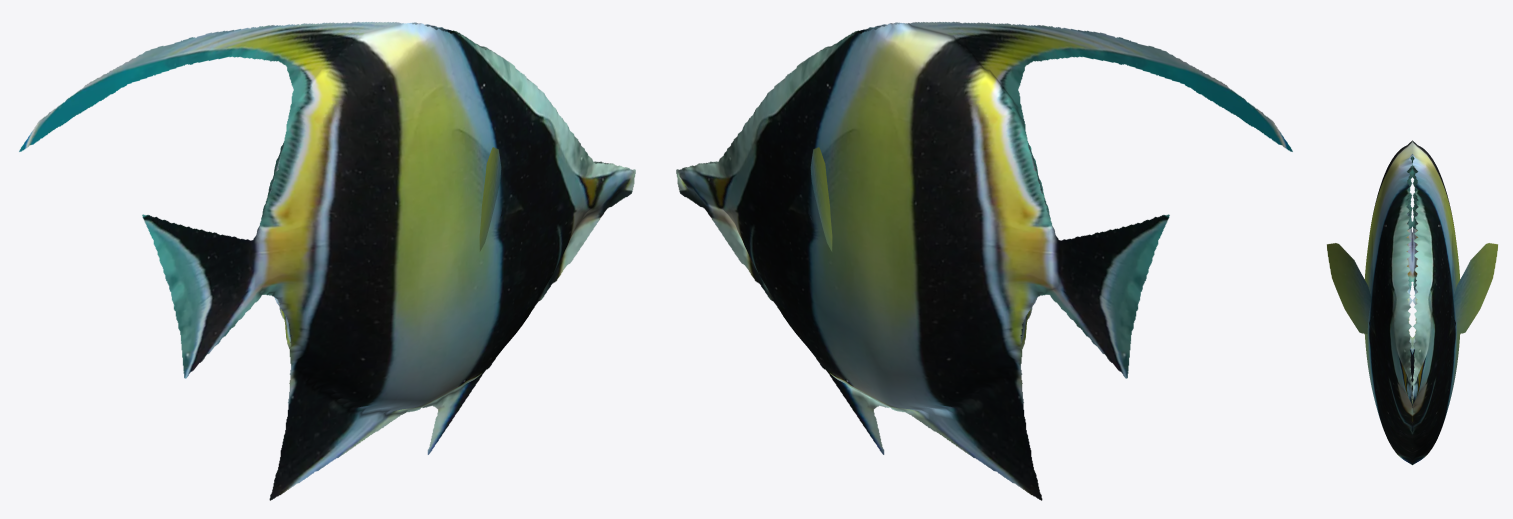
The model's file is species-idol-photo.glb.
The picture shows the model from 3 angles, left to right: view 1: azimuth 30°, elevation 25°; view 2: azimuth 150°, elevation 25°; view 3: azimuth 270°, elevation 25°; orthographic projection. The views are drawn at different scales.
Visible parts, largest first — view 1: idol; view 2: idol; view 3: idol.
Part boxes in pixels (x1,y1,x2,y2): idol: (19, 21, 635, 500); idol: (676, 21, 1292, 500); idol: (1327, 140, 1497, 465).
Bounding box in the file's own units: 0.1425 × 0.1069 × 0.0441.
Materials: 1 (1 with a texture image).
